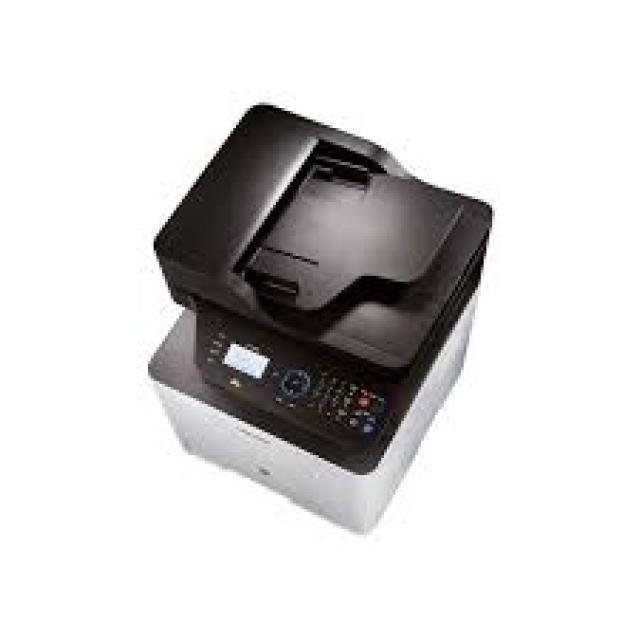printer: (145, 100, 492, 534)
